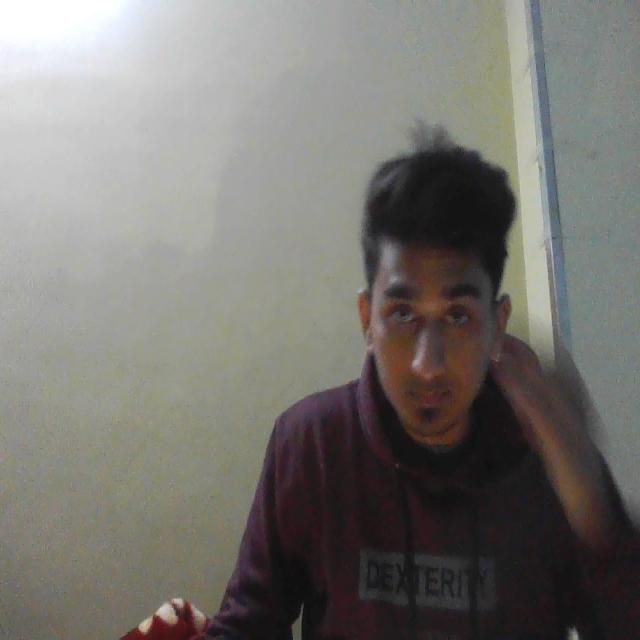real: (358, 161, 517, 463)
